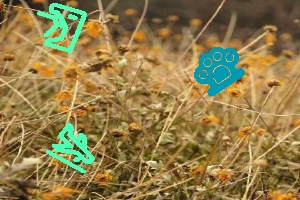像7: (37, 3, 86, 54)
熊爪: (192, 46, 245, 95)
飞机: (48, 122, 95, 175)
